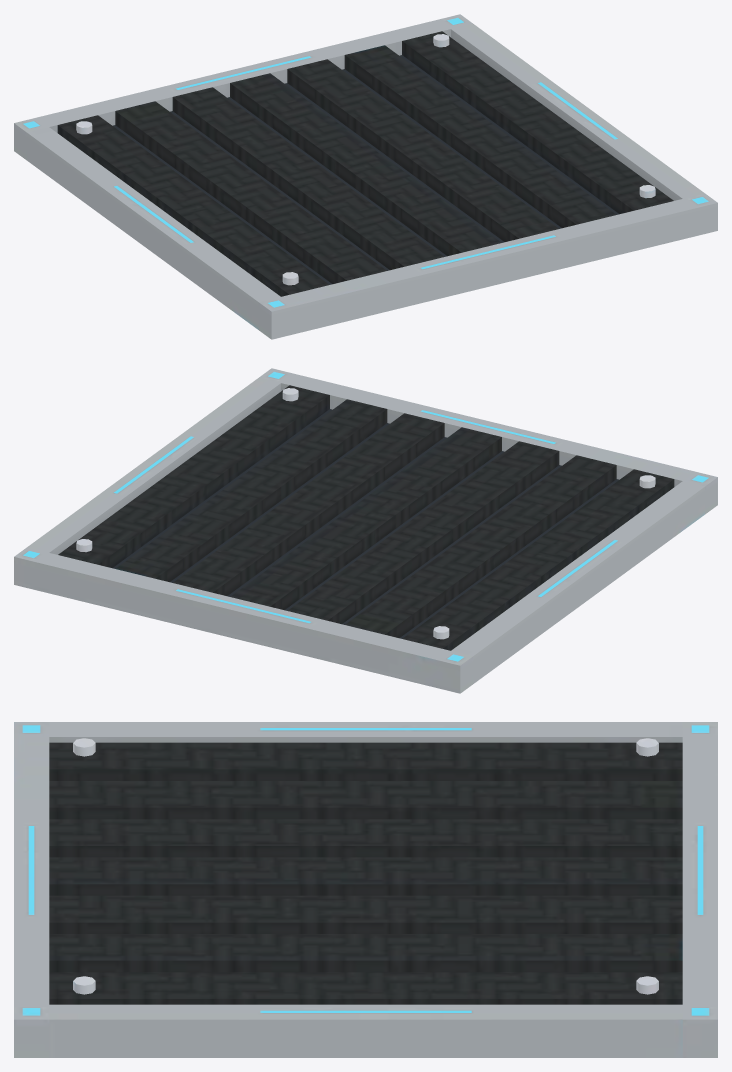
Rendered from hull_enterprise_platform.glb.
3 views of the same model, one above another, from view 1: azimuth 30°, elevation 25°; view 2: azimuth 150°, elevation 25°; view 3: azimuth 270°, elevation 25° (orthographic). The views are drawn at different scales.
Visible parts, largest first — view 1: te_hull_enterprise_platform; view 2: te_hull_enterprise_platform; view 3: te_hull_enterprise_platform.
Part boxes in pixels (<box>): te_hull_enterprise_platform: <box>14,14,717,339</box>; te_hull_enterprise_platform: <box>14,368,717,693</box>; te_hull_enterprise_platform: <box>14,722,717,1057</box>.
Bounding box in the file's own units: 1 × 0.074 × 1.
Materials: 1 (1 with a texture image).
